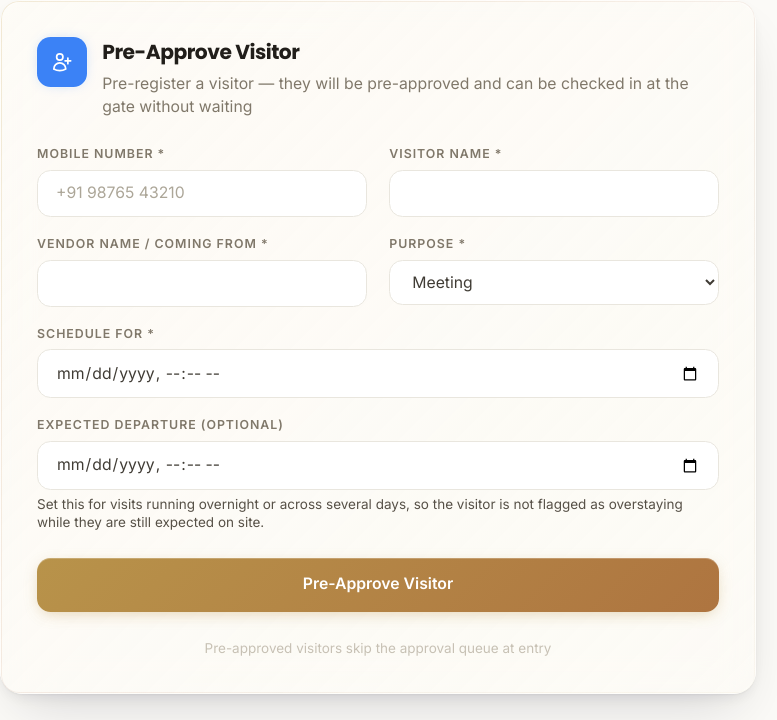
Test: PreApproveForm validation › shows blacklist banner and blocks submission when phone is blacklisted
The width and height of the screenshot is (777, 720).
# Enter a blacklisted phone and trigger blur to check it
Type "5555666660" into the field with placeholder "+91 98765 43210" at point(202, 193), box [37, 170, 367, 217]
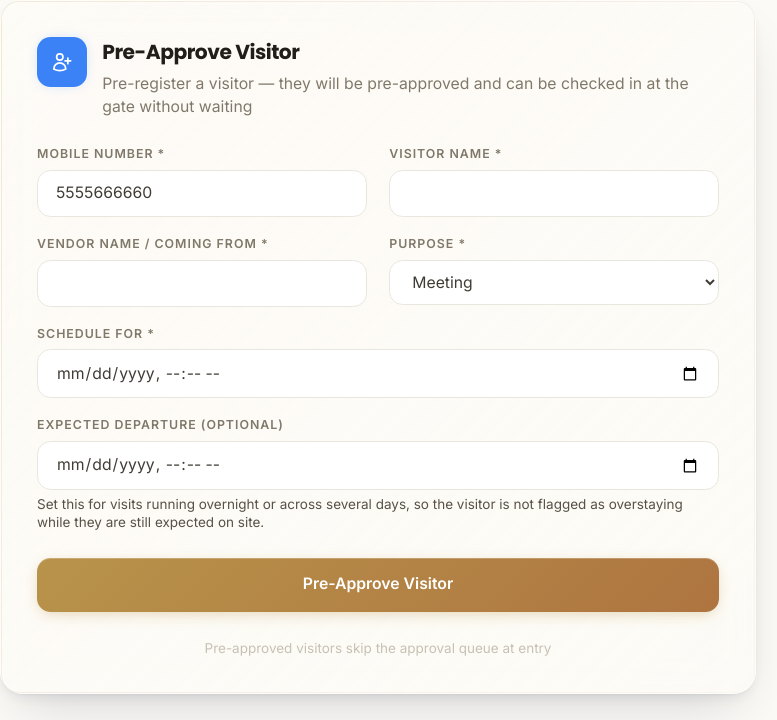
Leave the field below "Mobile Number *", box [37, 170, 367, 217]
(page scrolled)
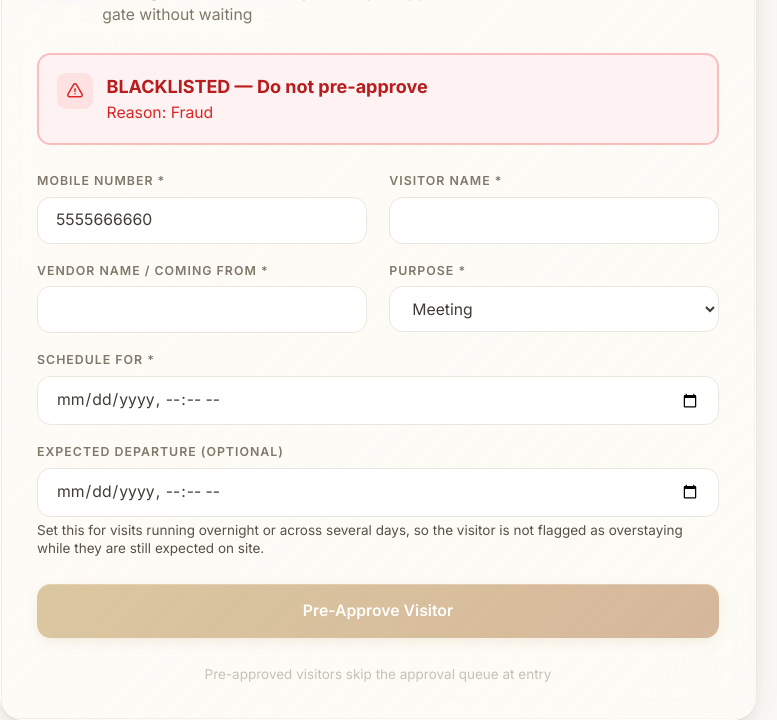
Expected: the text "BLACKLISTED — Do not pre-approve" is shown, [106, 73, 428, 100]
Expected: the text "Reason: Fraud" is shown, [106, 103, 213, 122]
Expected: the button "Pre-Approve Visitor" is disabled, [37, 584, 719, 638]
